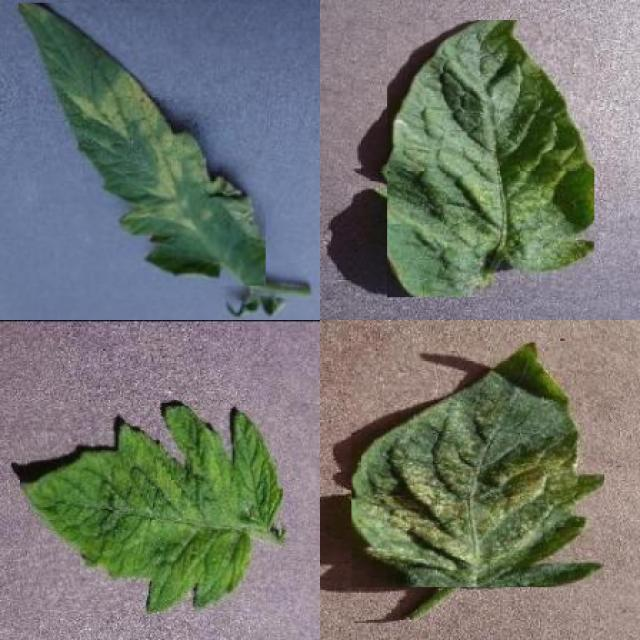Leaf Mold: (18, 3, 266, 286)
Mosaic Virus: (20, 405, 283, 615)
Spider Mites: (352, 342, 604, 588), (387, 20, 594, 297)
